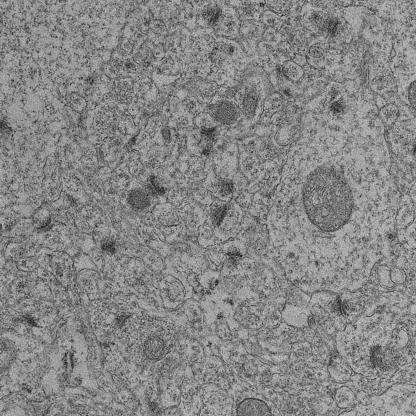mitochondria: (297, 166, 356, 232), (208, 95, 244, 126), (139, 332, 168, 361), (237, 88, 263, 120), (123, 187, 153, 211)
